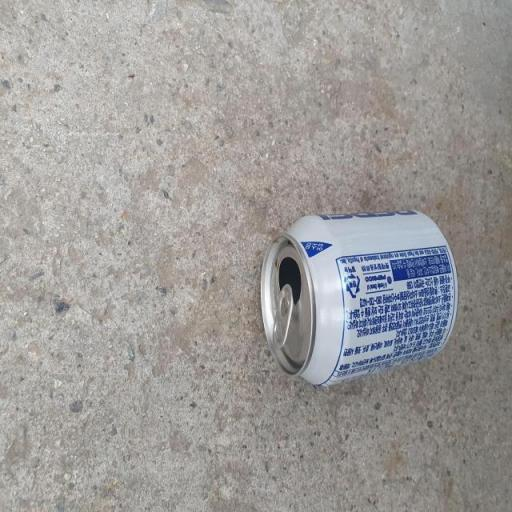metal: (238, 196, 490, 398)
